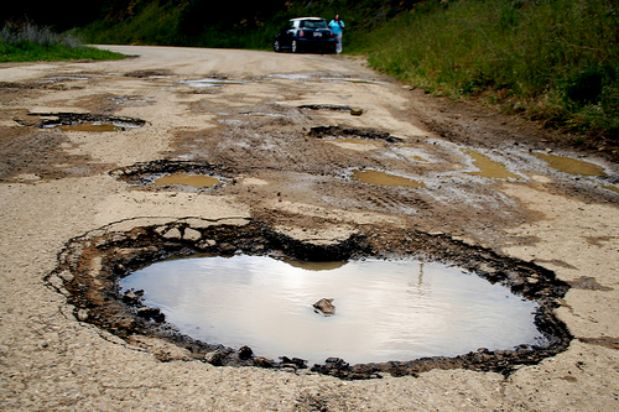pothole: (46, 215, 576, 382), (106, 158, 237, 196), (26, 107, 151, 135), (307, 118, 405, 151)
